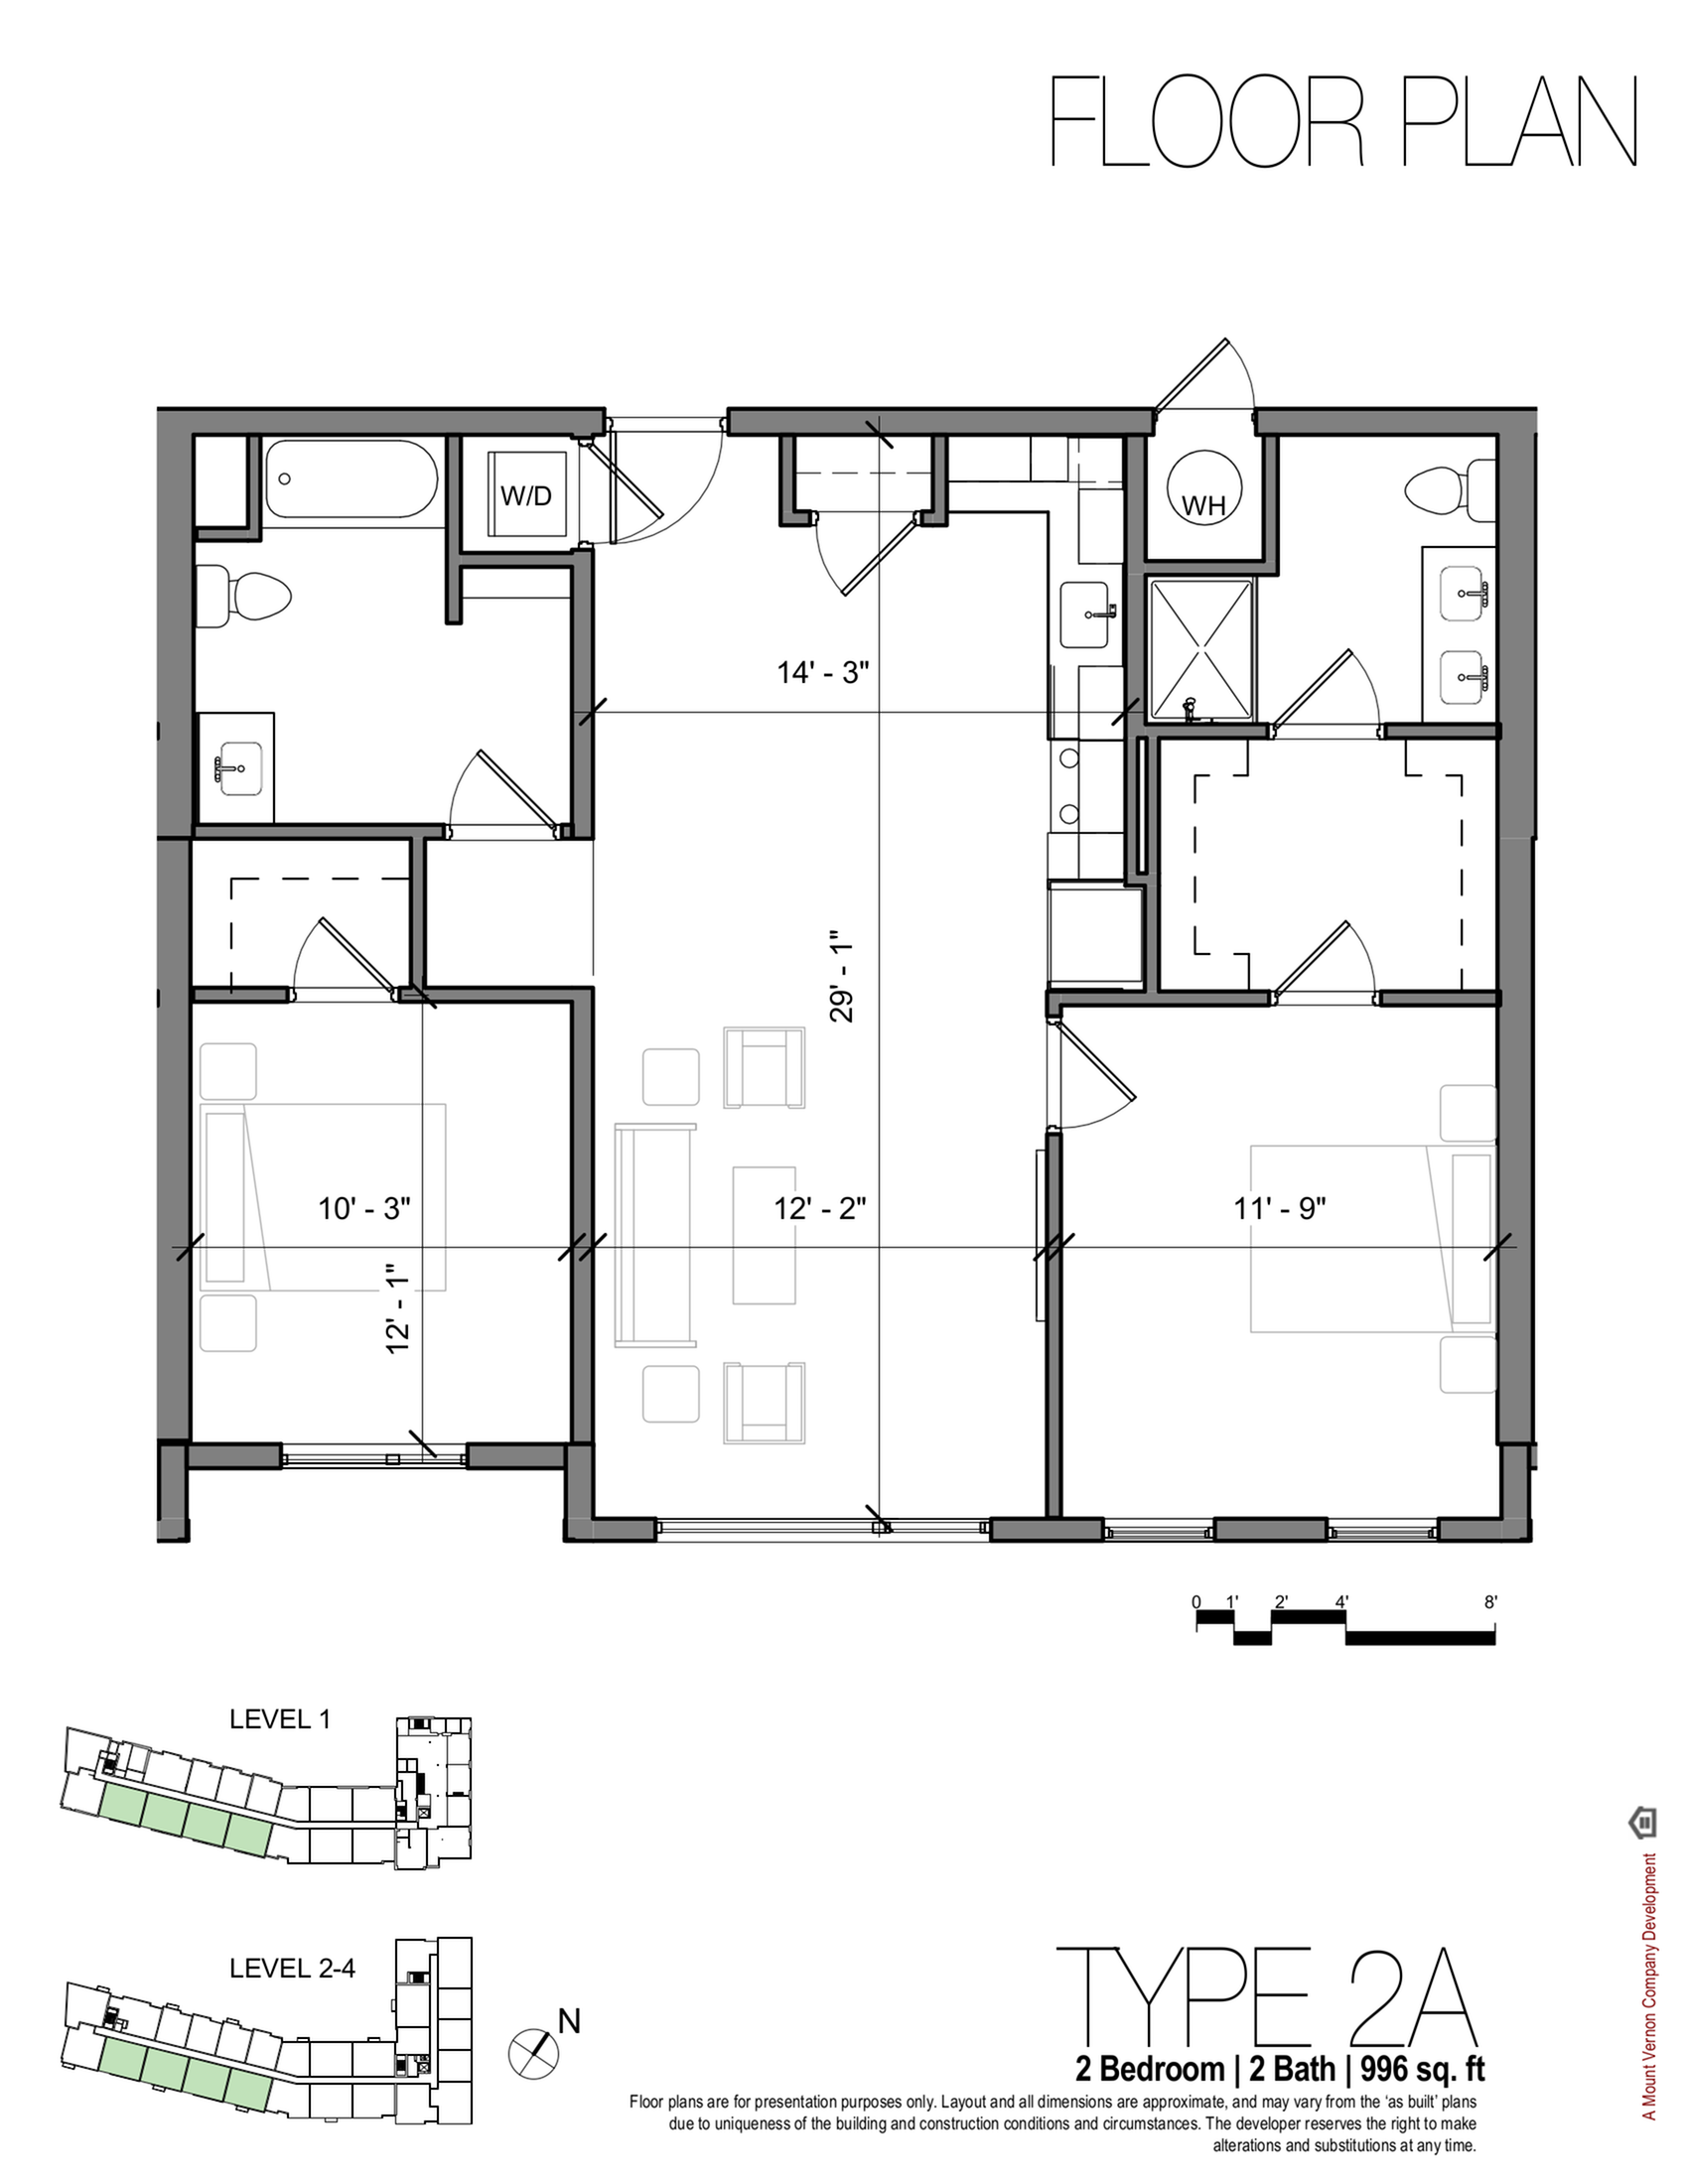door: (1066, 1019, 1147, 1136), (438, 746, 555, 824), (287, 911, 401, 987), (809, 525, 910, 604), (1282, 647, 1385, 725), (1161, 331, 1262, 404), (1278, 918, 1385, 986)
